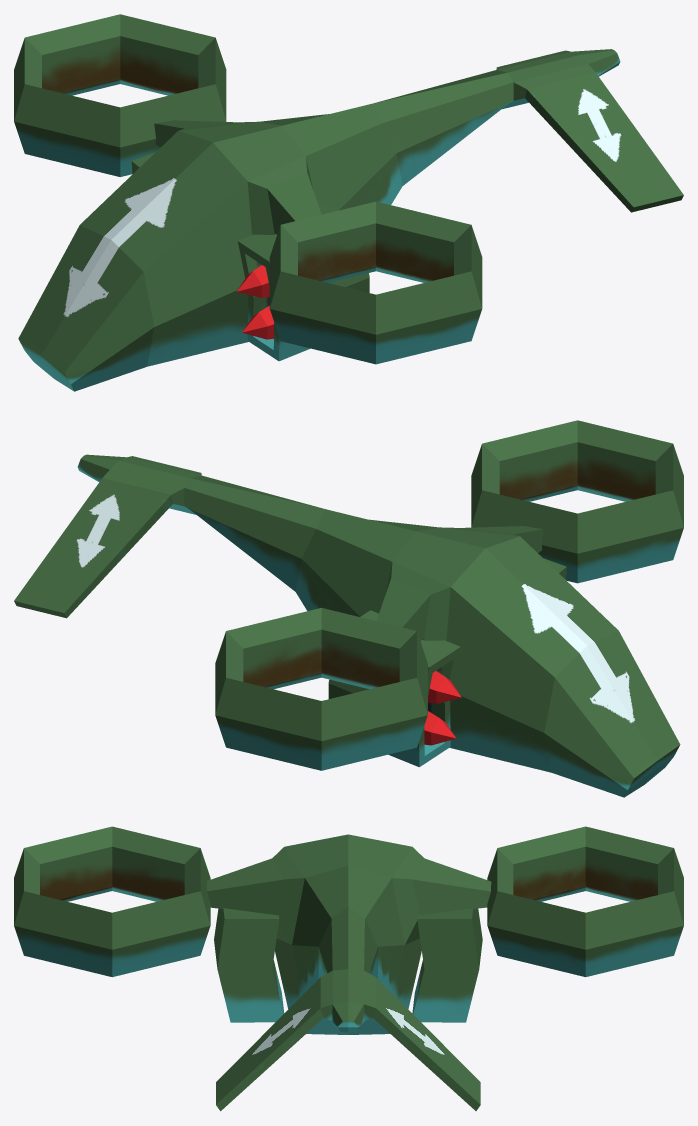
Rendered from ship2.glb.
3 views of the same model, one above another, from view 1: azimuth 30°, elevation 25°; view 2: azimuth 150°, elevation 25°; view 3: azimuth 270°, elevation 25° (orthographic). The views are drawn at different scales.
Parts seen in each view (by area): view 1: body, edf_left, edf_right, weapons; view 2: body, edf_right, edf_left, weapons; view 3: body, edf_right, edf_left, weapons.
Boxes of the visible parts, x1,y1,x2,y2 form: body: (18,49,683,391); edf_left: (269,201,482,364); edf_right: (14,14,226,176); weapons: (131,152,369,361); body: (14,454,680,797); edf_right: (215,608,427,770); edf_left: (471,420,683,583); weapons: (328,558,566,767); body: (206,834,491,1111); edf_right: (487,826,683,977); edf_left: (14,826,210,977); weapons: (214,908,482,1022).
Bounding box in the file's own units: 8.4 × 2.76 × 9.15.
Materials: 1 (1 with a texture image).
